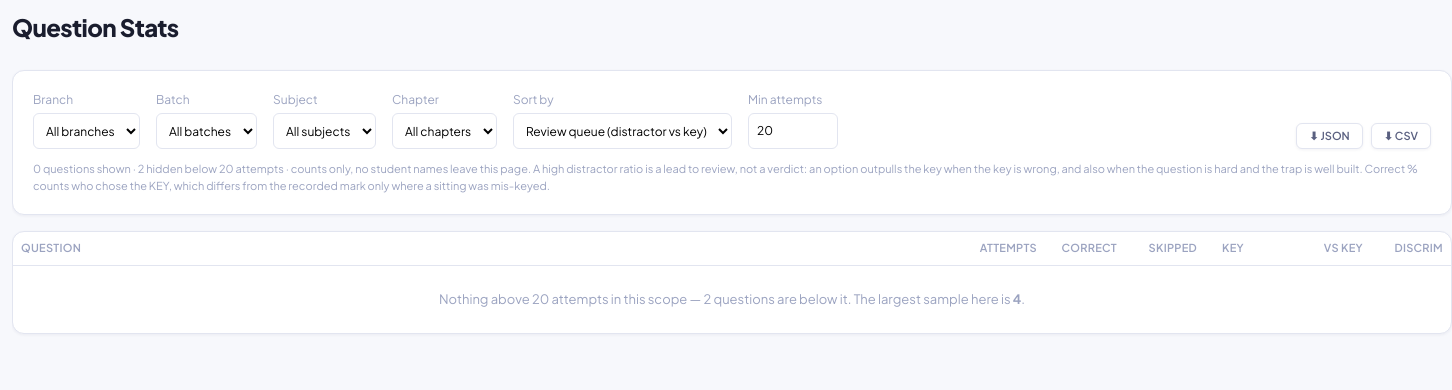
Test: ItemStatsPage — filters › filters by chapter
The image size is (1452, 390).
Replace the text in the number field labelled "Min attempts" with "1" at (793, 131), box [748,113,838,149]
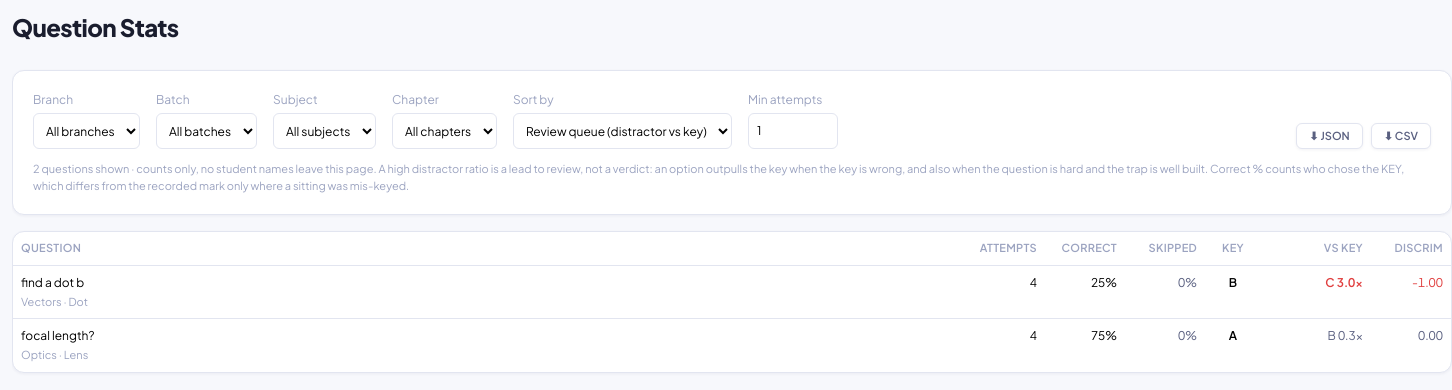
Select "Vectors" in the dropdown labelled "Chapter" at (444, 131), box [392,113,497,149]
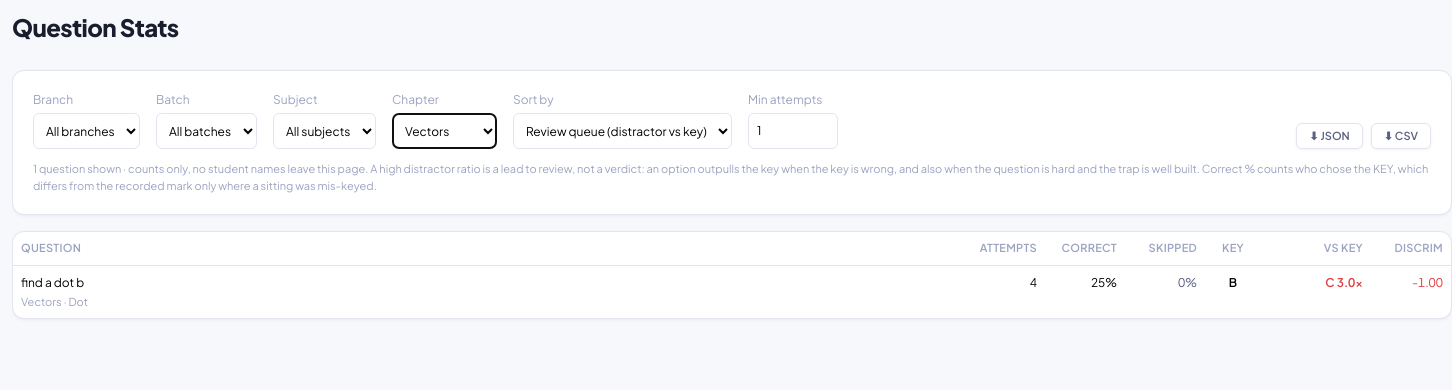
Expected: the number of rows with test id "item-row" is 1, [13,265,1451,318]
